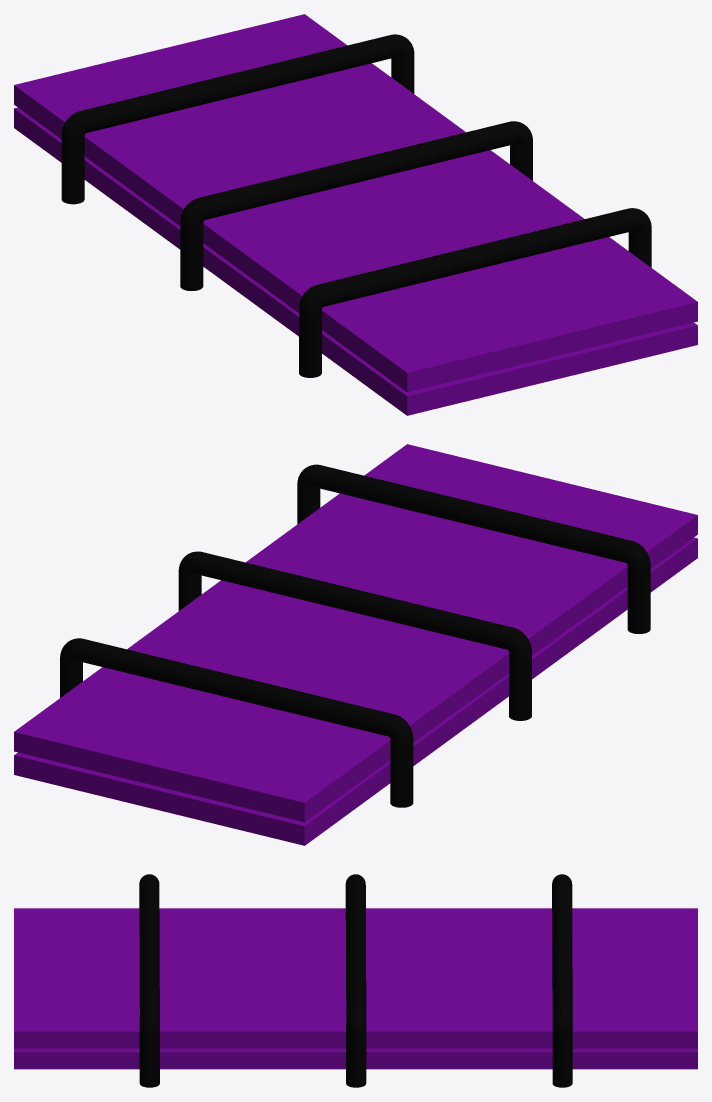
The model's file is BatteryLevel2.fbx.
The picture shows the model from 3 angles, top to bottom: view 1: azimuth 30°, elevation 25°; view 2: azimuth 150°, elevation 25°; view 3: azimuth 270°, elevation 25°; orthographic projection. The views are drawn at different scales.
Parts seen in each view (by area): view 1: BatteryLevel2; view 2: BatteryLevel2; view 3: BatteryLevel2.
Part boxes in pixels (x1,y1,x2,y2): BatteryLevel2: [14, 14, 697, 415]; BatteryLevel2: [14, 444, 697, 845]; BatteryLevel2: [14, 874, 697, 1087].
Bounding box in the file's own units: 51.46 × 11.99 × 100.
